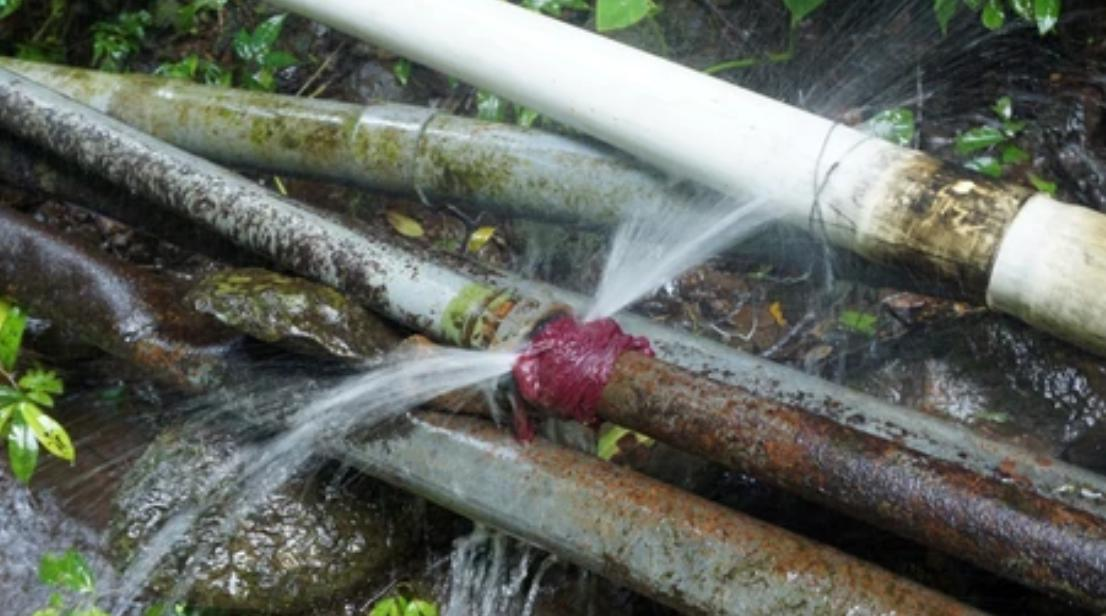pipe burst: (581, 26, 999, 323), (101, 343, 526, 616)
